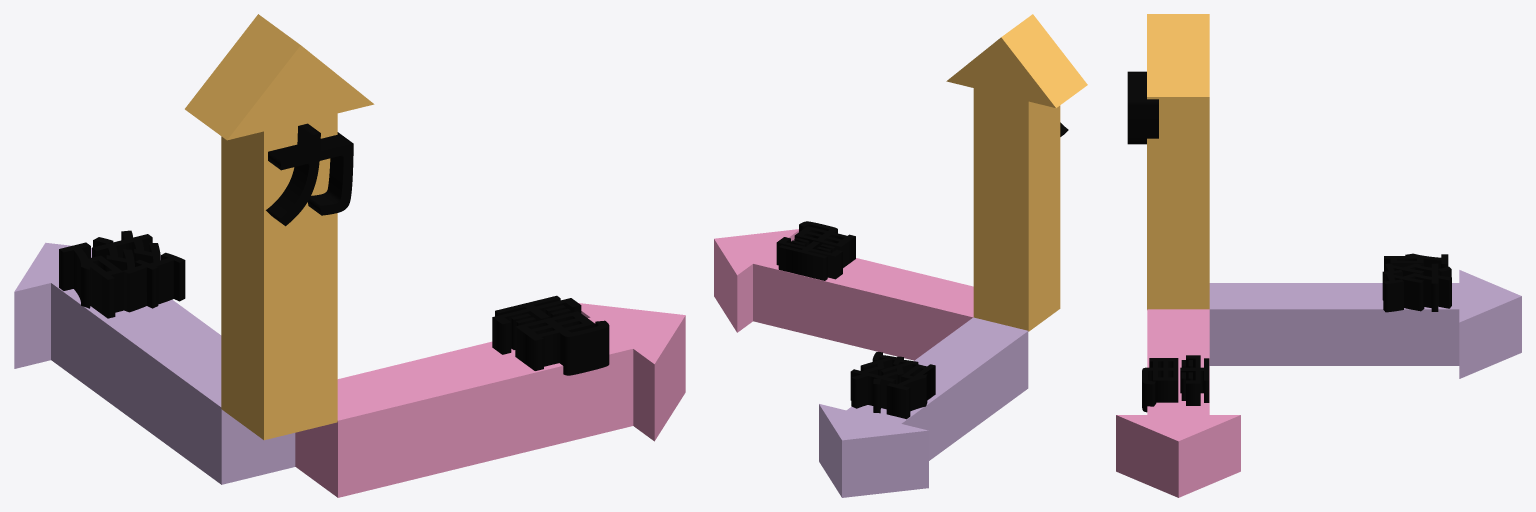
Rendered from flemingc.glb.
The picture shows the model from 3 angles, left to right: view 1: azimuth 30°, elevation 25°; view 2: azimuth 150°, elevation 25°; view 3: azimuth 270°, elevation 25°; orthographic projection. The views are drawn at different scales.
Parts seen in each view (by area): view 1: Fleming-0.001, テキスト, テキスト.002, テキスト.001; view 2: Fleming-0.001, テキスト, テキスト.002; view 3: Fleming-0.001, テキスト, テキスト.002, テキスト.001.
Part boxes in pixels (box(x1,y1,x2,y2)): Fleming-0.001: box(14, 14, 685, 497); テキスト: box(59, 230, 185, 318); テキスト.002: box(492, 295, 609, 375); テキスト.001: box(266, 123, 353, 226); Fleming-0.001: box(714, 14, 1087, 497); テキスト: box(850, 352, 935, 419); テキスト.002: box(776, 221, 855, 280); Fleming-0.001: box(1116, 14, 1521, 497); テキスト: box(1382, 253, 1451, 312); テキスト.002: box(1142, 355, 1209, 412); テキスト.001: box(1127, 71, 1158, 144).
Size of the model in its own units: 6.51 by 5.98 by 6.5.
